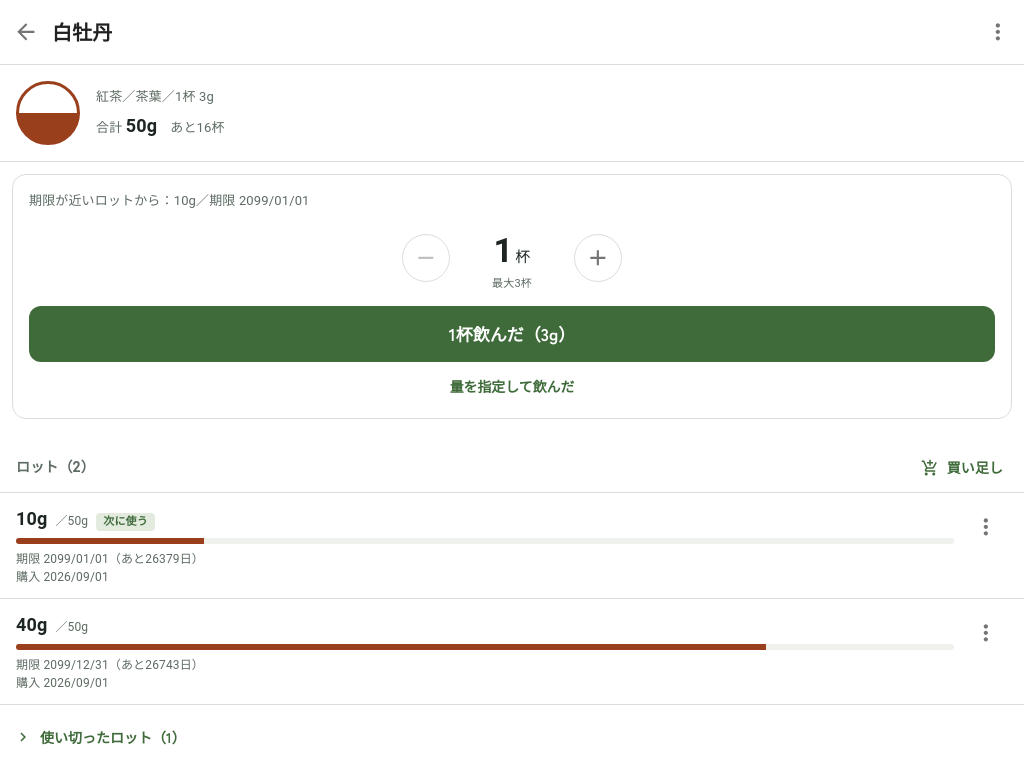
Test case: SC-03 在庫の操作 › 杯数を選んで「飲んだ」で消費し、完了を通知する
Expected: the text "最大3杯" is shown, [492,276,532,290]
Click the button named "1杯増やす": (598, 258) [574,234,622,282]
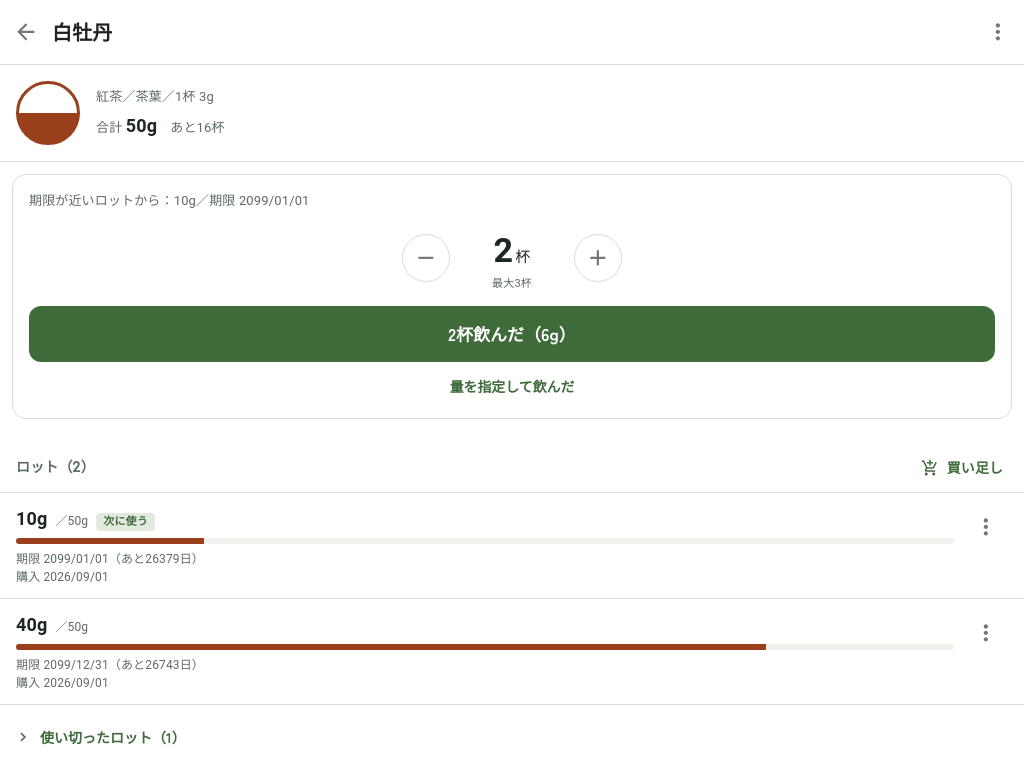
Click the button "2杯飲んだ（6g）": (512, 334) [29,306,995,362]
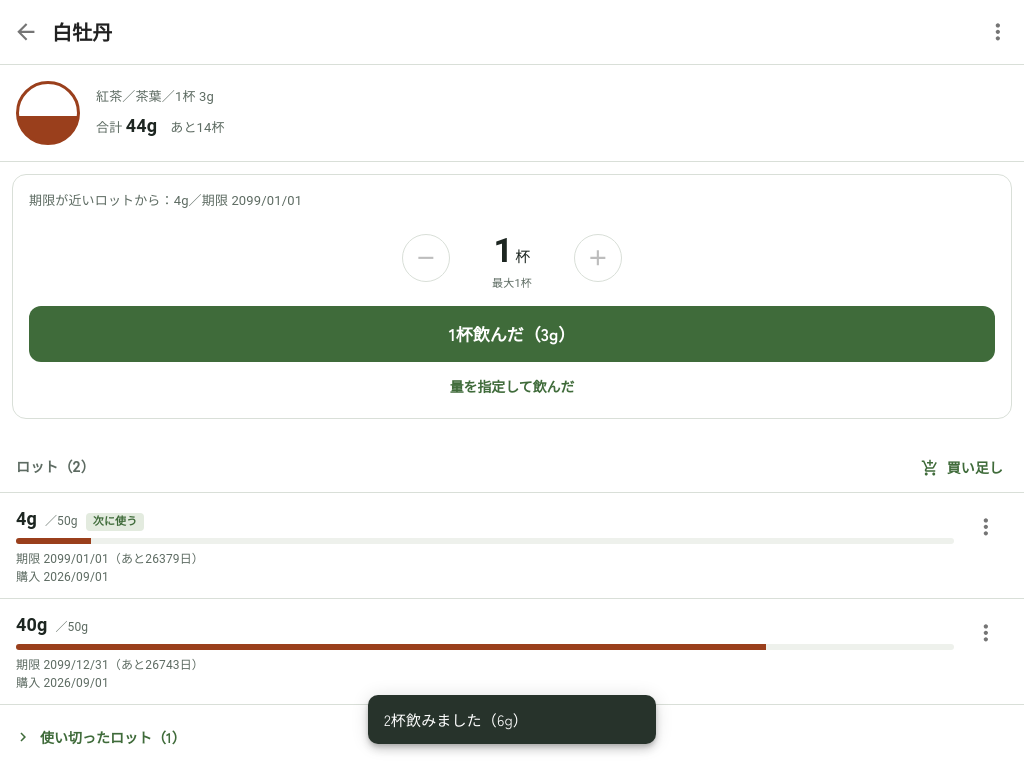
Expected: the text "2杯飲みました（6g）" is shown, [384,709,528,730]
Expected: the text "期限が近いロットから：4g／期限 2099/01/01" is shown, [29,193,302,208]
